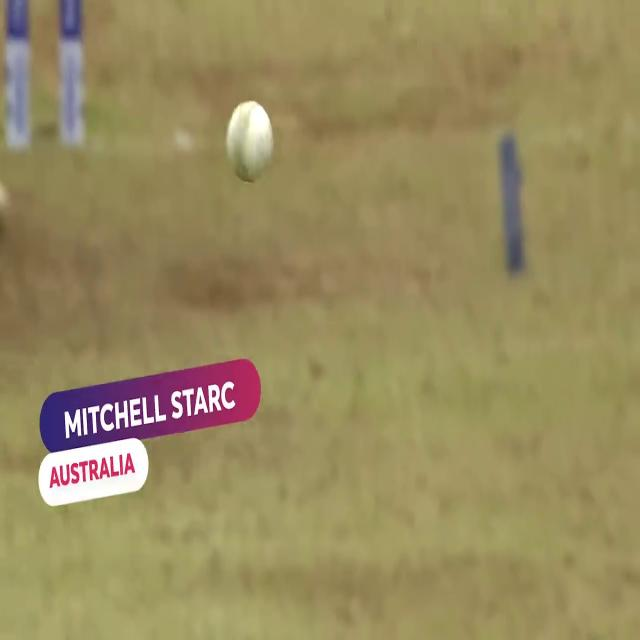ball: (222, 83, 284, 198)
